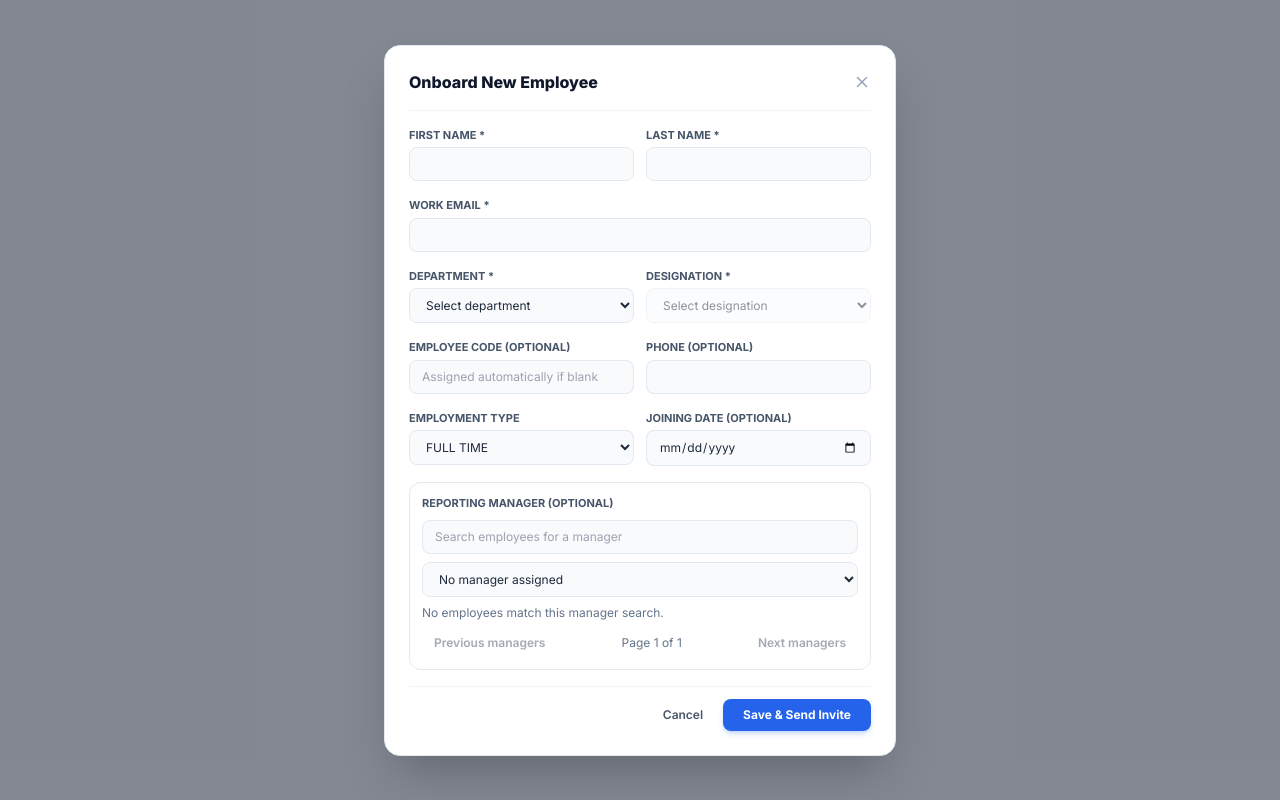
Scenario: Employee creation and invitation (mocked HTTP) › validates required fields without posting
Click the button "Save & Send Invite": (797, 714) [723, 698, 871, 730]
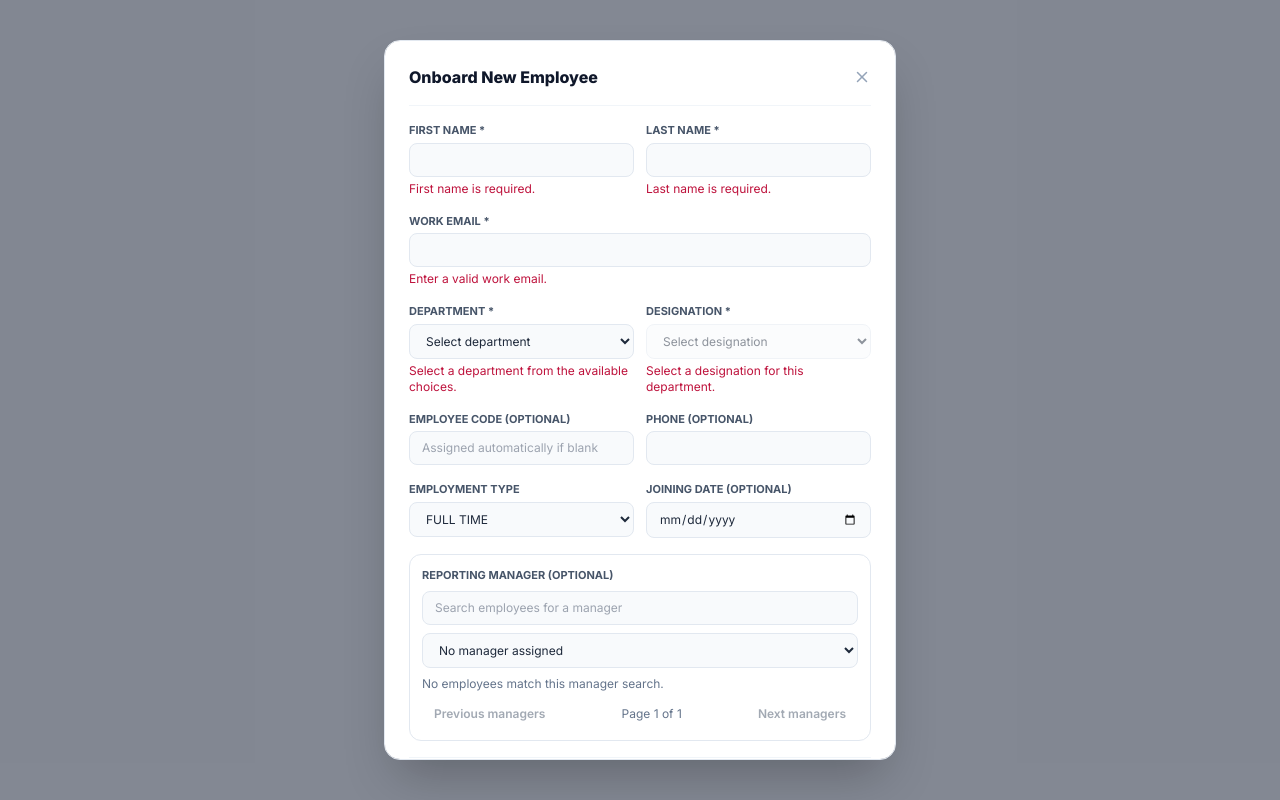
Expected: the text "First name is required." is shown, [409, 180, 535, 196]
